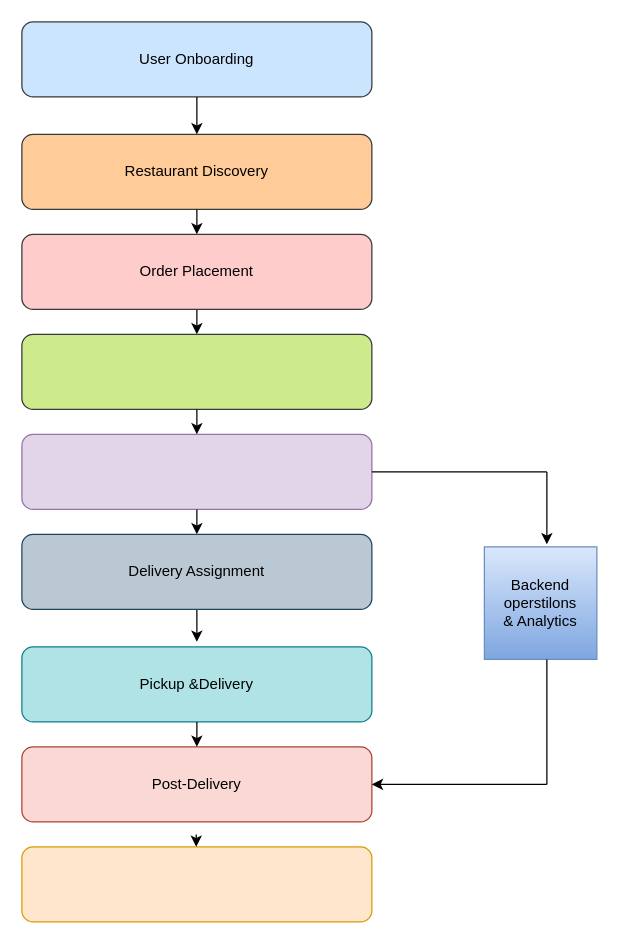
Some shapes in this 619 by 944 pixel diagram are drawn without their labels. Here are the shapes that lost their labels. From the top down, the box of each, then its label:
(21, 333, 372, 409): Payment Process
(21, 433, 372, 509): Order confirmation
(21, 846, 372, 922): Feedback loop and updates
